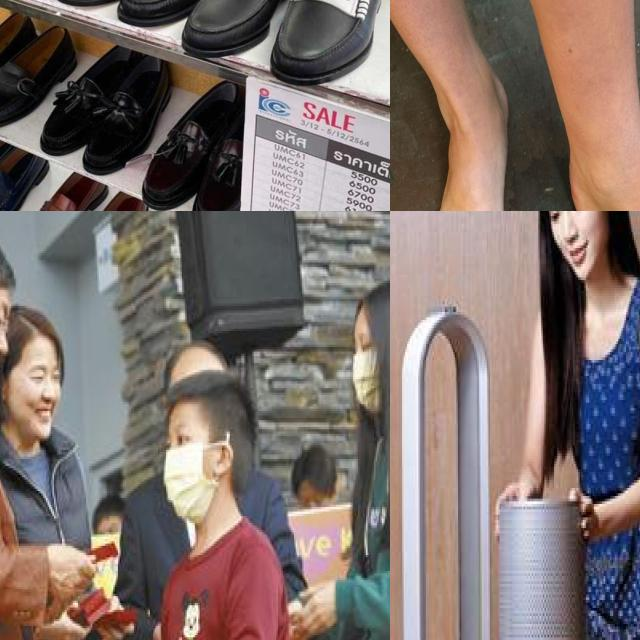Barefoots: (422, 69, 510, 211)
No_Ear-Protection: (215, 437, 232, 481)
No_Glasses: (539, 211, 594, 228)
Sandals: (168, 0, 390, 97)
face_mask: (161, 418, 217, 523), (350, 326, 384, 416)
face_nomask: (541, 211, 610, 285), (9, 356, 62, 439), (0, 296, 11, 392)
hand_noglove: (41, 536, 97, 600), (293, 579, 338, 640), (567, 482, 599, 546), (50, 600, 95, 640)
head_nohelmet: (148, 338, 228, 377), (163, 388, 252, 423), (12, 310, 67, 354), (332, 292, 390, 328), (0, 228, 19, 294)
person: (514, 211, 640, 640), (131, 379, 315, 640), (0, 310, 108, 640), (318, 278, 390, 640)
